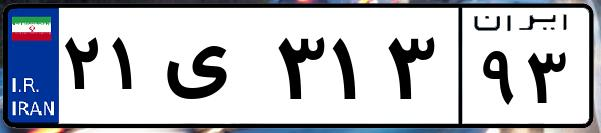1: (330, 28, 385, 110), (110, 28, 158, 98)
2: (57, 26, 110, 100)
3: (270, 28, 330, 110), (385, 28, 445, 110), (525, 38, 570, 115)
9: (475, 38, 525, 113)
ی: (158, 20, 270, 120)
